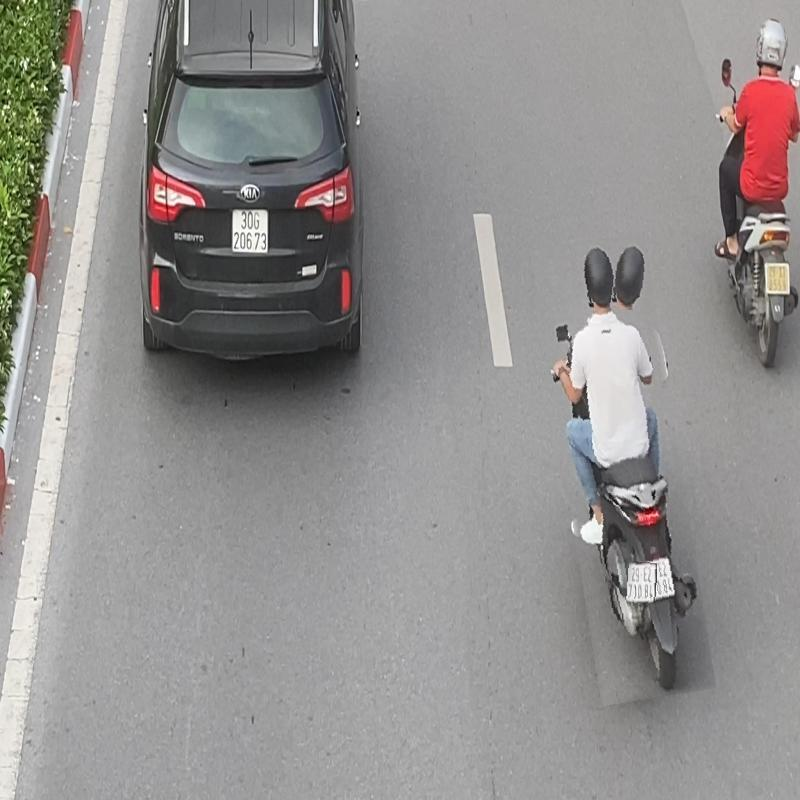helmet: (612, 240, 648, 311)
licenseplate: (626, 562, 656, 604)
motorcyclist: (548, 235, 698, 703)
